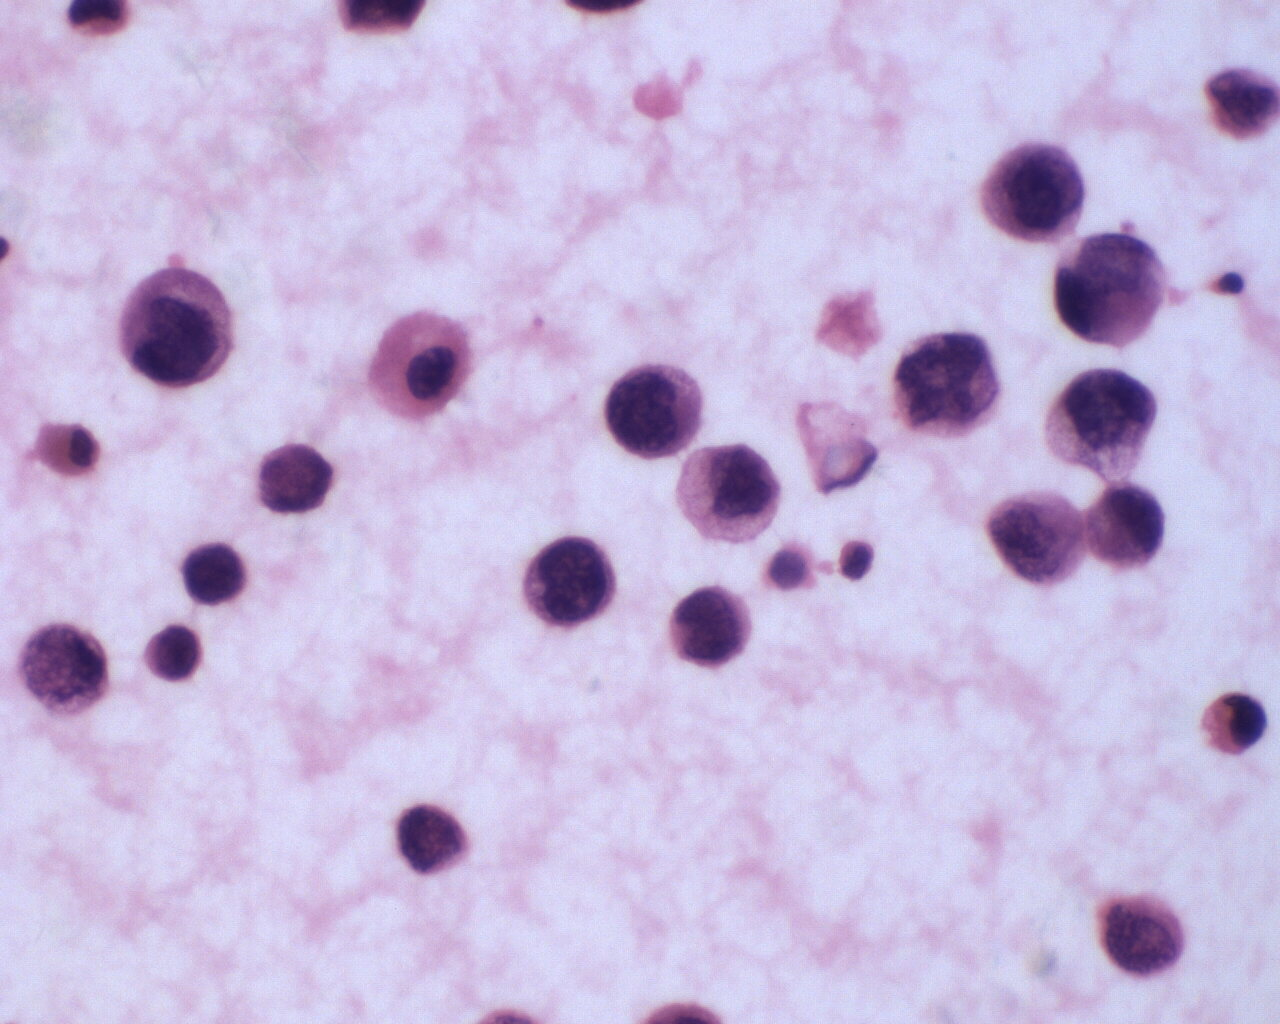ab: (111, 265, 239, 397), (1043, 228, 1173, 344), (972, 123, 1093, 245), (1040, 367, 1164, 478), (894, 329, 1002, 445), (509, 528, 626, 631), (676, 441, 782, 548), (606, 362, 709, 470), (1084, 473, 1170, 576), (670, 578, 765, 671), (1098, 888, 1188, 984), (248, 438, 338, 521), (391, 797, 473, 884), (1198, 689, 1273, 765), (139, 616, 217, 686), (180, 538, 252, 610)
meso: (370, 307, 478, 422)
